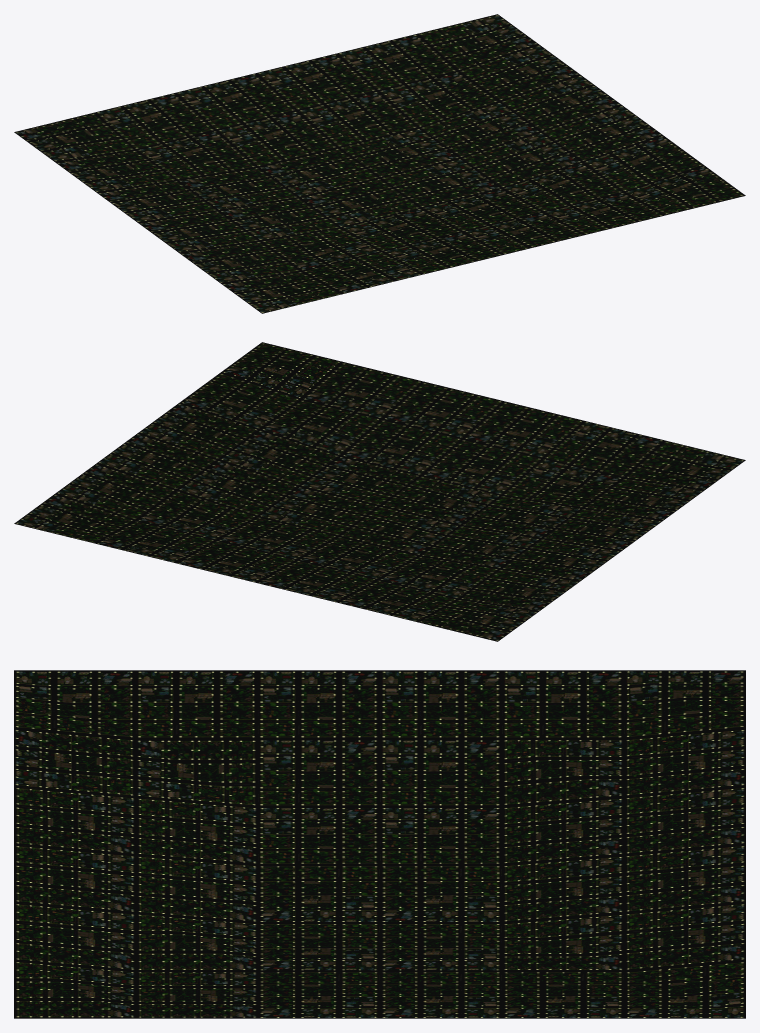
Rendered from BLOCK_HOODFAR.glb.
The picture shows the model from 3 angles, top to bottom: view 1: azimuth 30°, elevation 25°; view 2: azimuth 150°, elevation 25°; view 3: azimuth 270°, elevation 25°; orthographic projection. The views are drawn at different scales.
Visible parts, largest first — view 1: BLOCK_HOODFAR; view 2: BLOCK_HOODFAR; view 3: BLOCK_HOODFAR.
Boxes of the visible parts, x1=… form: BLOCK_HOODFAR: x1=14, y1=14, x2=745, y2=313; BLOCK_HOODFAR: x1=14, y1=342, x2=745, y2=641; BLOCK_HOODFAR: x1=14, y1=670, x2=745, y2=1018.
Size of the model in its own units: 85550 by 2352 by 76010.
1 material, 1 textured.
